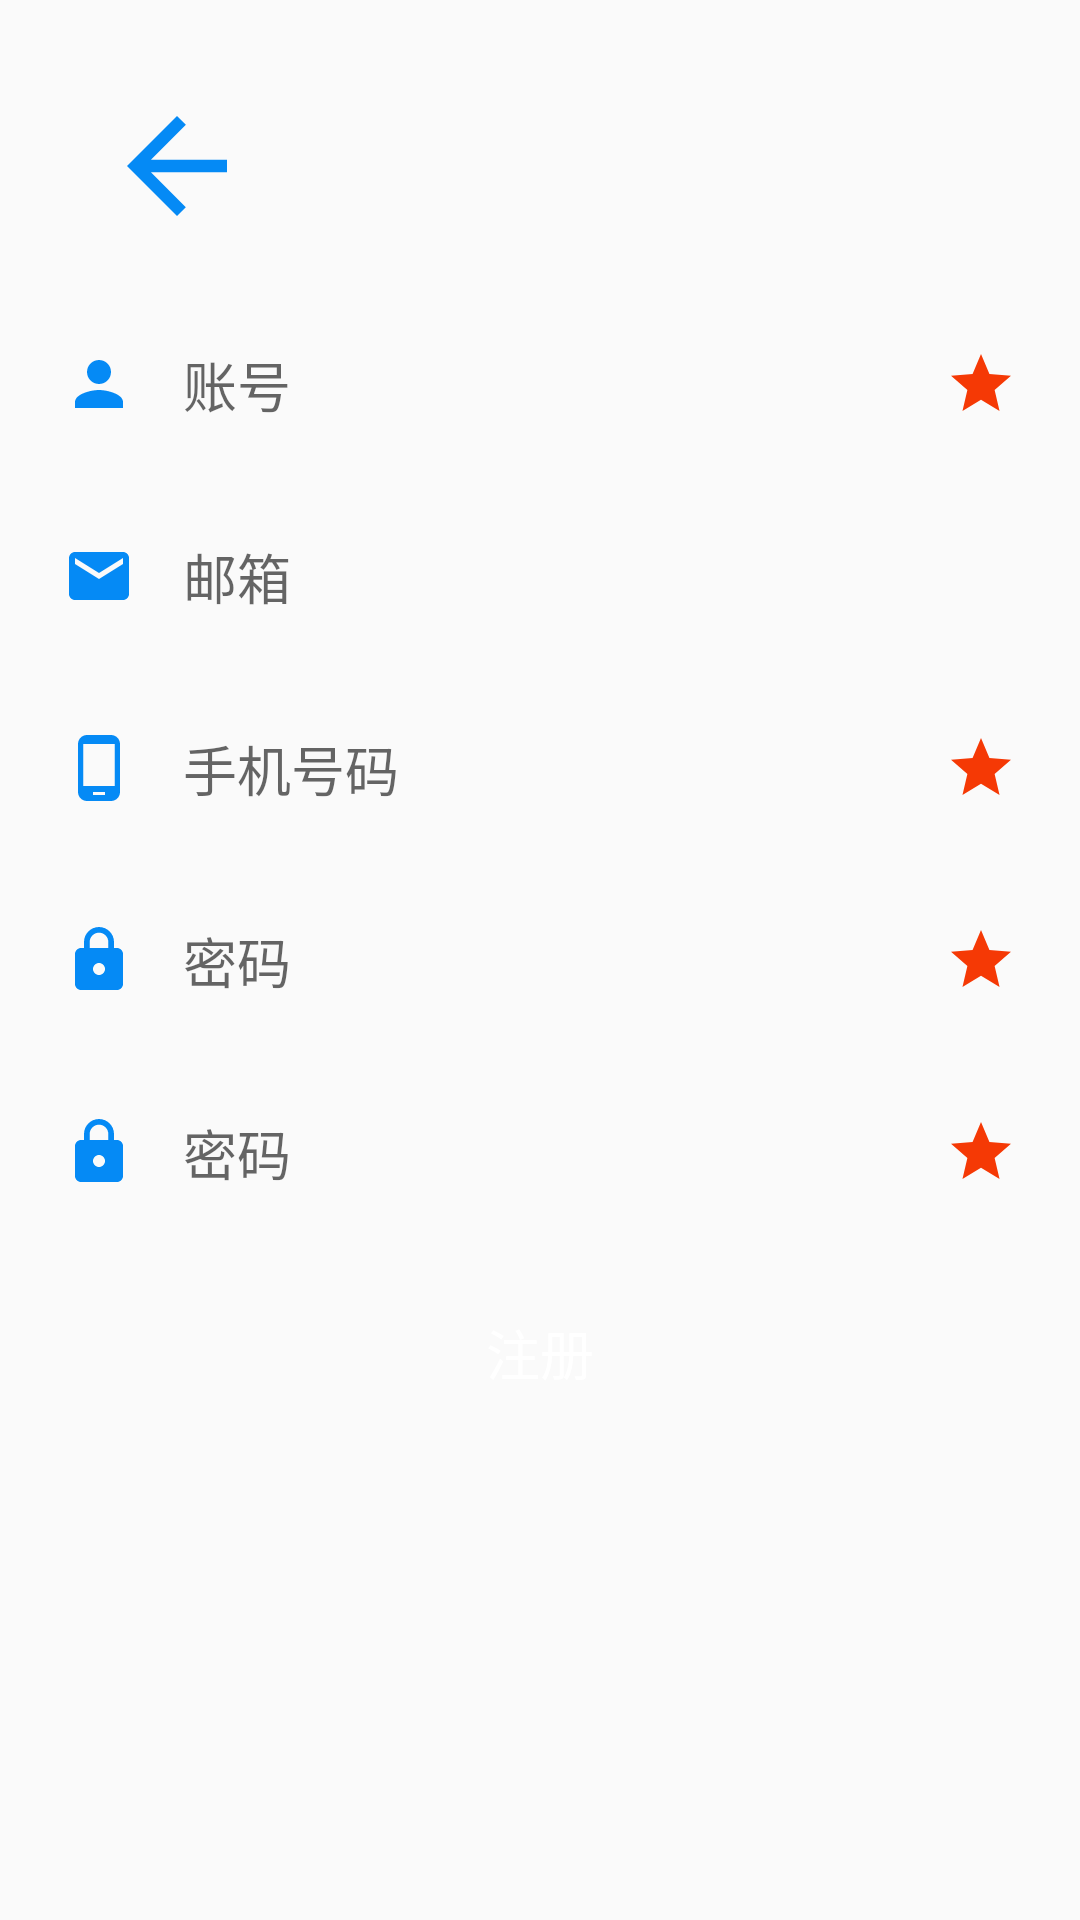

Icons on this 1080w x 1920h Android screen, each with the point to tap as [x,y]:
back: [177,166]
